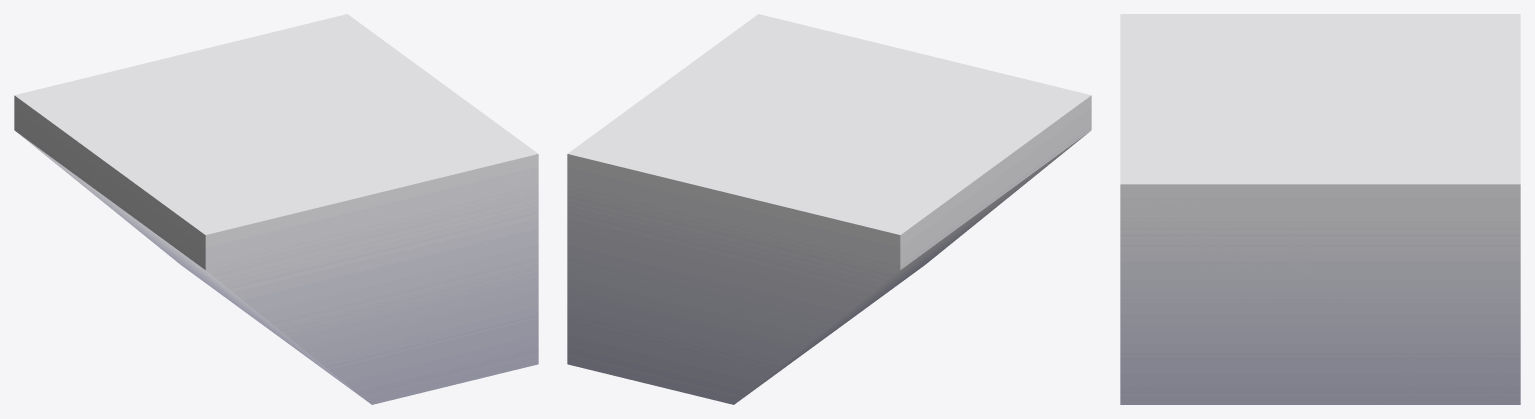
Rendered from brick-kit--none-lq-brick-slope-inverted-2x2.glb.
3 renders of one model, left to right at view 1: azimuth 30°, elevation 25°; view 2: azimuth 150°, elevation 25°; view 3: azimuth 270°, elevation 25°, orthographic. The views are drawn at different scales.
Parts seen in each view (by area): view 1: none-lq-brick-slope-inverted-2x2; view 2: none-lq-brick-slope-inverted-2x2; view 3: none-lq-brick-slope-inverted-2x2.
Part boxes in pixels (left/top/right/bottom): none-lq-brick-slope-inverted-2x2: left=14, top=14, right=538, bottom=404; none-lq-brick-slope-inverted-2x2: left=567, top=14, right=1091, bottom=404; none-lq-brick-slope-inverted-2x2: left=1120, top=14, right=1520, bottom=404.
Bounding box in the file's own units: 0.159 × 0.096 × 0.158.
1 material, 1 textured.
